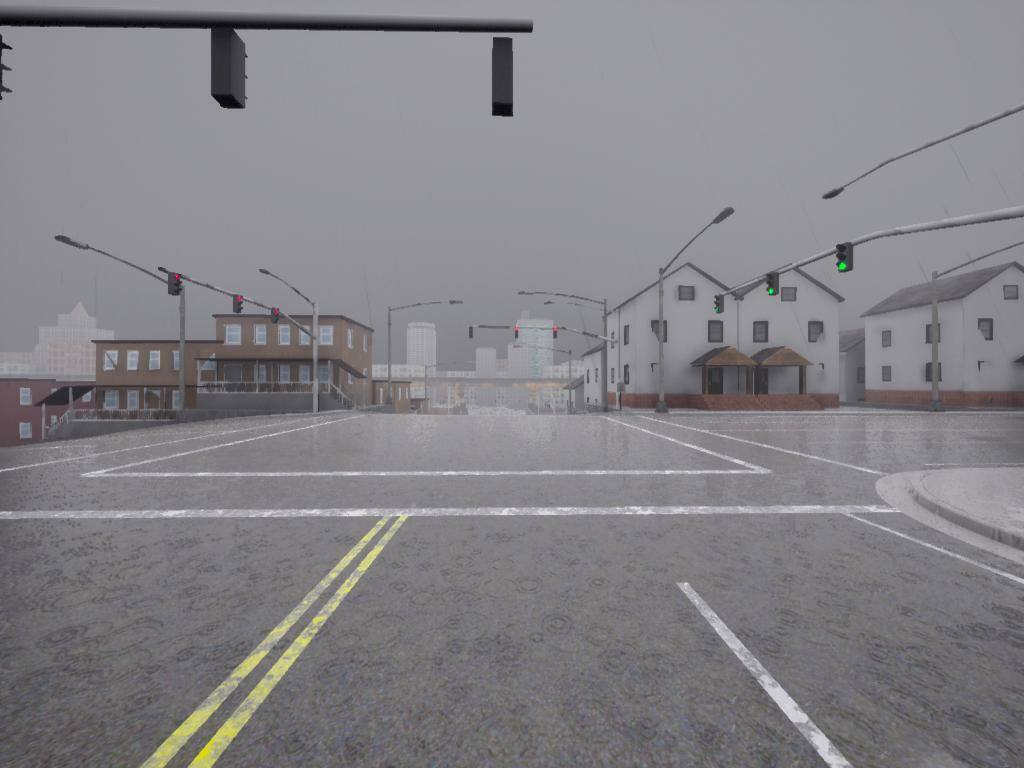traffic_light: (208, 29, 251, 111), (491, 35, 519, 123), (838, 245, 858, 274), (169, 272, 183, 295), (765, 276, 778, 298), (712, 295, 725, 317), (270, 308, 282, 329), (233, 295, 242, 312), (469, 327, 476, 344), (513, 326, 520, 343), (552, 327, 558, 343)
